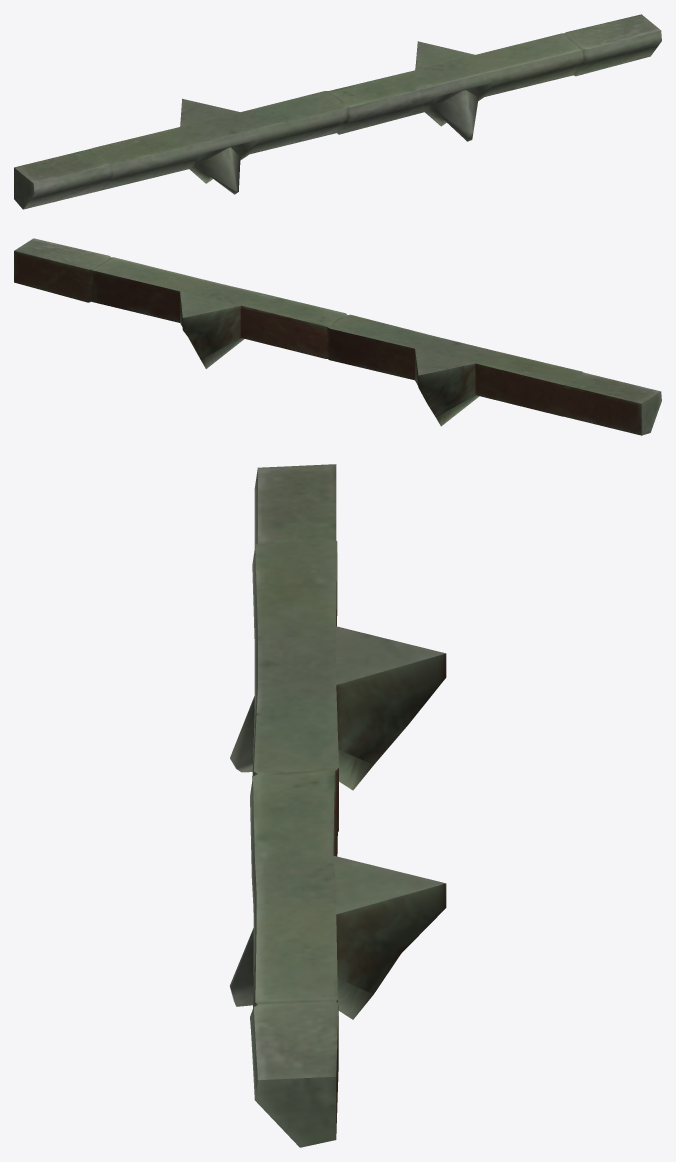
File: Ruins_Trim_Top_8M_A.fbx
3 renders of one model, top to bottom at view 1: azimuth 30°, elevation 25°; view 2: azimuth 150°, elevation 25°; view 3: azimuth 270°, elevation 25°, orthographic. The views are drawn at different scales.
Visible parts, largest first — view 1: Ruins_Trim_Top_8M_A; view 2: Ruins_Trim_Top_8M_A; view 3: Ruins_Trim_Top_8M_A.
Part boxes in pixels (box(x1,y1,x2,y2)): Ruins_Trim_Top_8M_A: box(14, 14, 661, 209); Ruins_Trim_Top_8M_A: box(14, 238, 661, 435); Ruins_Trim_Top_8M_A: box(230, 464, 446, 1147).
Size of the model in its own units: 799 by 83.1 by 119.
